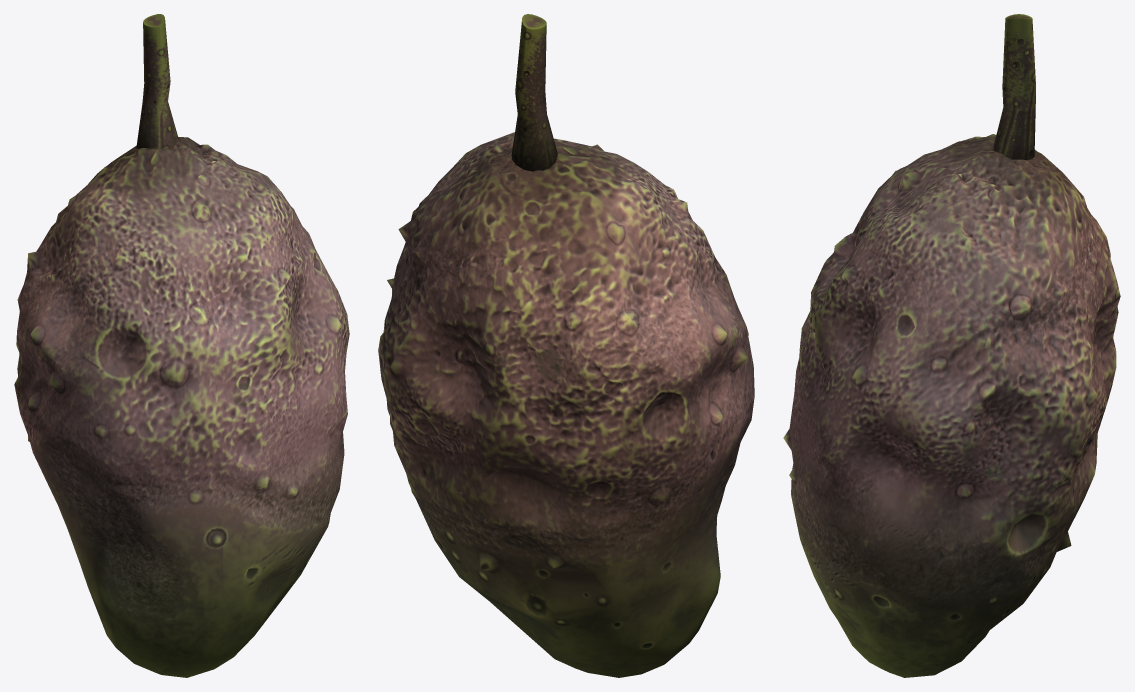
File: beshi_posa_Amm_.fbx
3 renders of one model, left to right at view 1: azimuth 30°, elevation 25°; view 2: azimuth 150°, elevation 25°; view 3: azimuth 270°, elevation 25°, orthographic. The views are drawn at different scales.
Visible parts, largest first — view 1: low:beshi_posa_Amm, low:beshi_posa_Amm_cut_A, low:beshi_posa_Amm_cut_b; view 2: low:beshi_posa_Amm, low:beshi_posa_Amm_cut_b, low:beshi_posa_Amm_cut_A; view 3: low:beshi_posa_Amm, low:beshi_posa_Amm_cut_b, low:beshi_posa_Amm_cut_A.
Part boxes in pixels (x1,y1,x2,y2): low:beshi_posa_Amm: (14,14,349,677); low:beshi_posa_Amm_cut_A: (20,287,331,514); low:beshi_posa_Amm_cut_b: (20,310,329,525); low:beshi_posa_Amm: (378,14,754,677); low:beshi_posa_Amm_cut_b: (423,307,738,535); low:beshi_posa_Amm_cut_A: (416,275,737,513); low:beshi_posa_Amm: (786,14,1120,677); low:beshi_posa_Amm_cut_b: (783,400,1096,615); low:beshi_posa_Amm_cut_A: (787,403,1095,596).
Size of the model in its own units: 729 by 1436 by 658.
